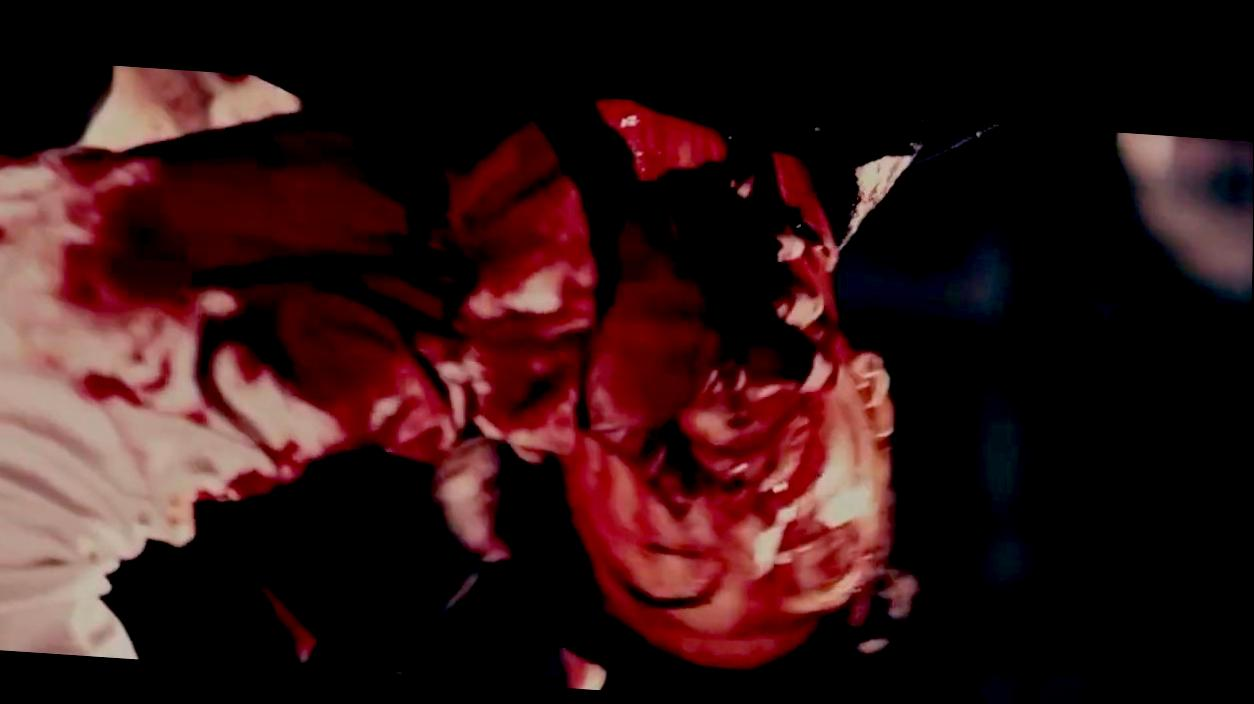Fire: (0, 63, 893, 655)
